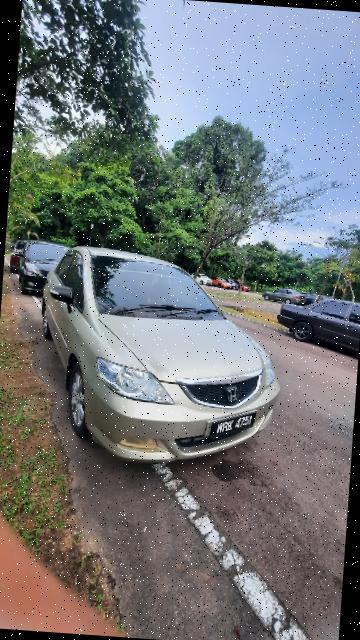License_Plate: (204, 408, 267, 444)
car: (31, 241, 299, 478)
